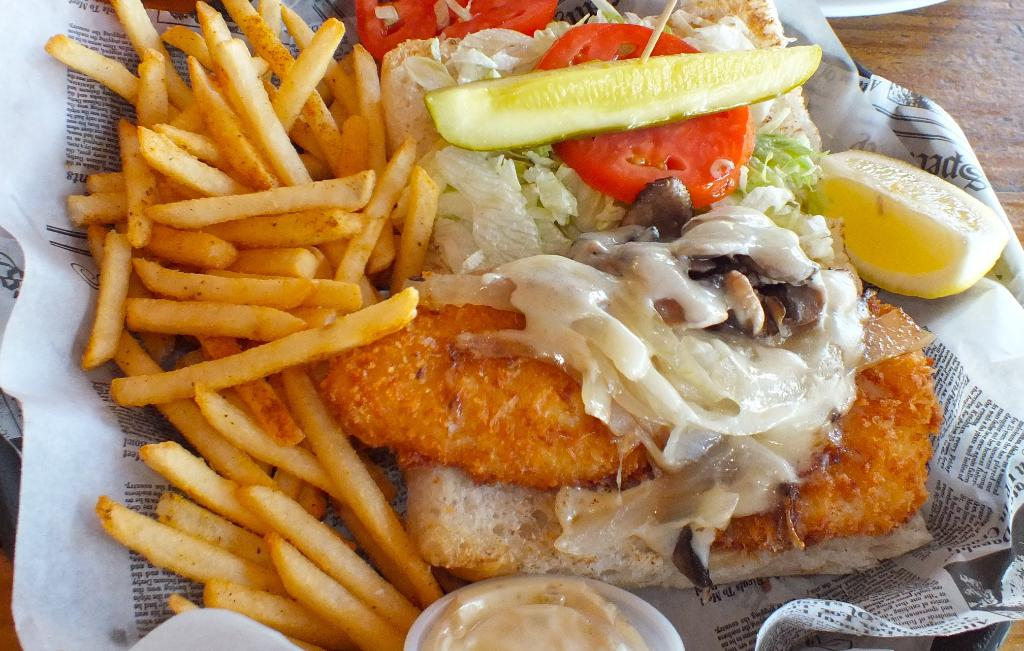French fries: (67, 0, 422, 650)
